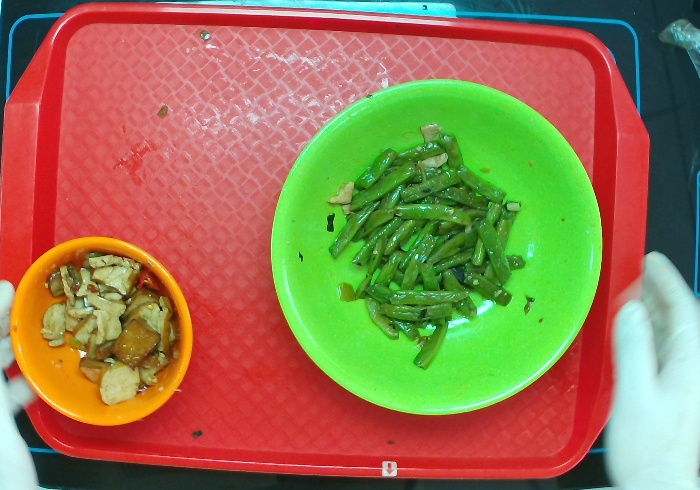YKMZ-Ju_Se_Yuan_Wan: (7, 235, 194, 426)
YKMZ-Lv_Se_Tang_Wan: (266, 75, 603, 413)
